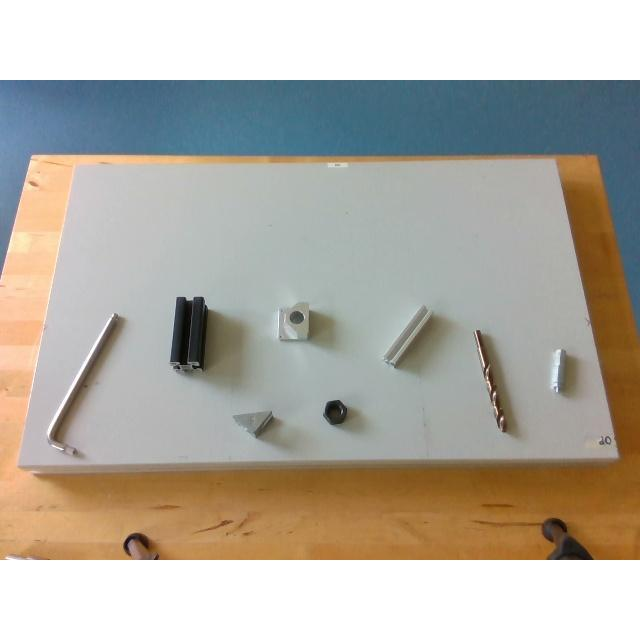AllenKey: (46, 312, 120, 456), (474, 330, 508, 434)
F20_20_G: (382, 304, 432, 368)
M20: (323, 399, 347, 423)
S40_40_B: (170, 296, 207, 368)
